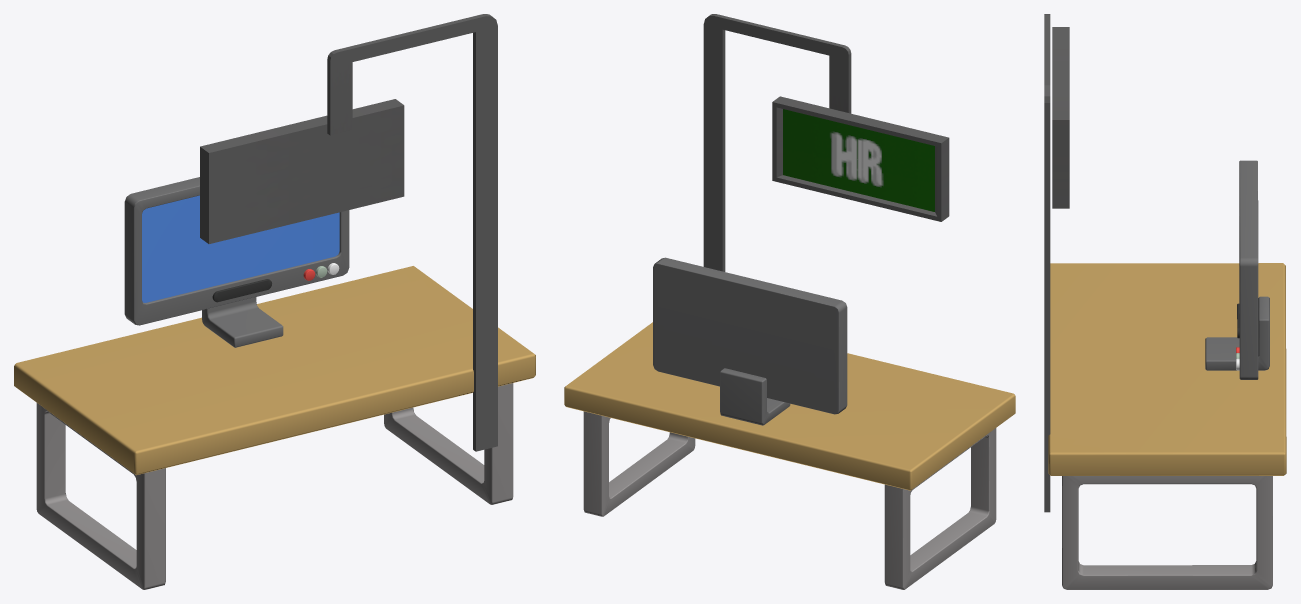
3 views of the same model, side by side, from view 1: azimuth 30°, elevation 25°; view 2: azimuth 150°, elevation 25°; view 3: azimuth 270°, elevation 25° (orthographic). The views are drawn at different scales.
Parts seen in each view (by area): view 1: SM_Order_Acceptance_Area; view 2: SM_Order_Acceptance_Area; view 3: SM_Order_Acceptance_Area.
Boxes of the visible parts, x1,y1,x2,y2 form: SM_Order_Acceptance_Area: (14,14,535,589); SM_Order_Acceptance_Area: (564,14,1015,589); SM_Order_Acceptance_Area: (1044,14,1286,589).
Size of the model in its own units: 412 by 490 by 220.
